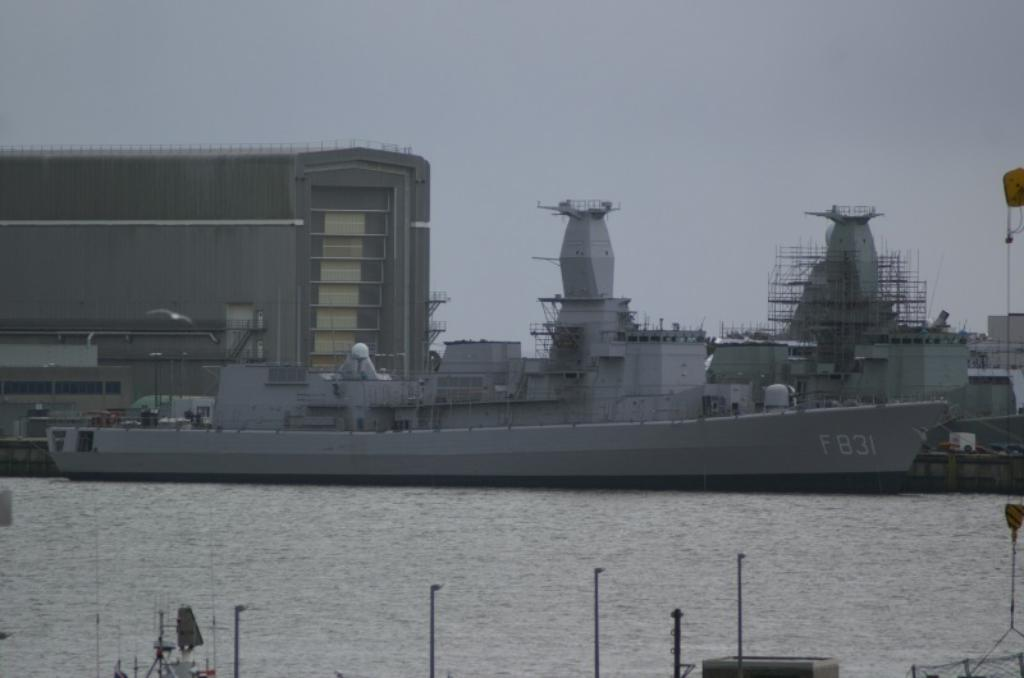Warship: (48, 195, 952, 499)
